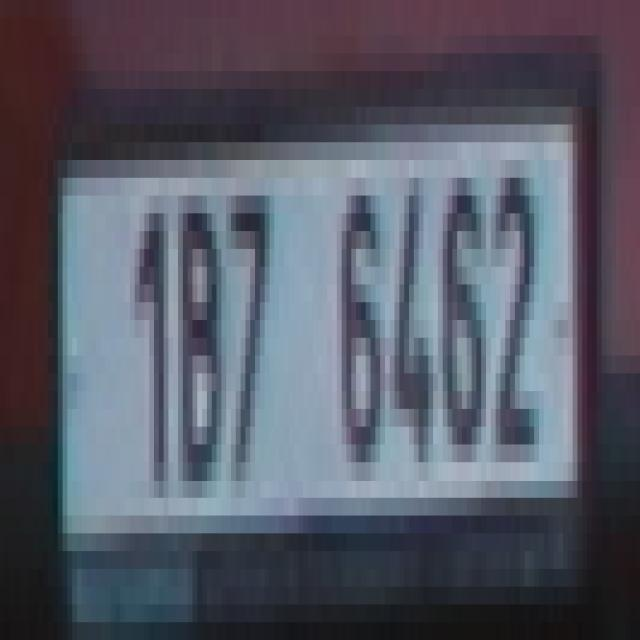1: (130, 195, 168, 498)
2: (491, 124, 539, 444)
4: (390, 160, 438, 480)
6: (337, 178, 385, 480), (438, 160, 486, 444)
7: (226, 178, 265, 516)
B: (178, 213, 217, 498)
